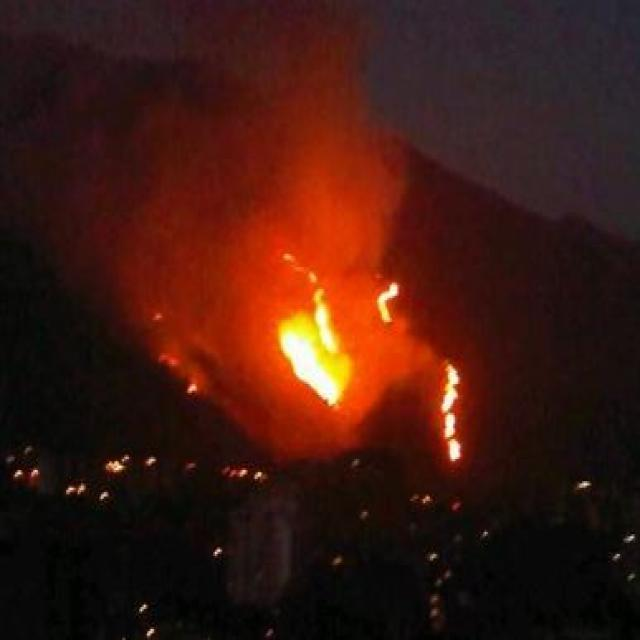Fire: (244, 247, 360, 406), (432, 351, 474, 468), (374, 266, 402, 324)
